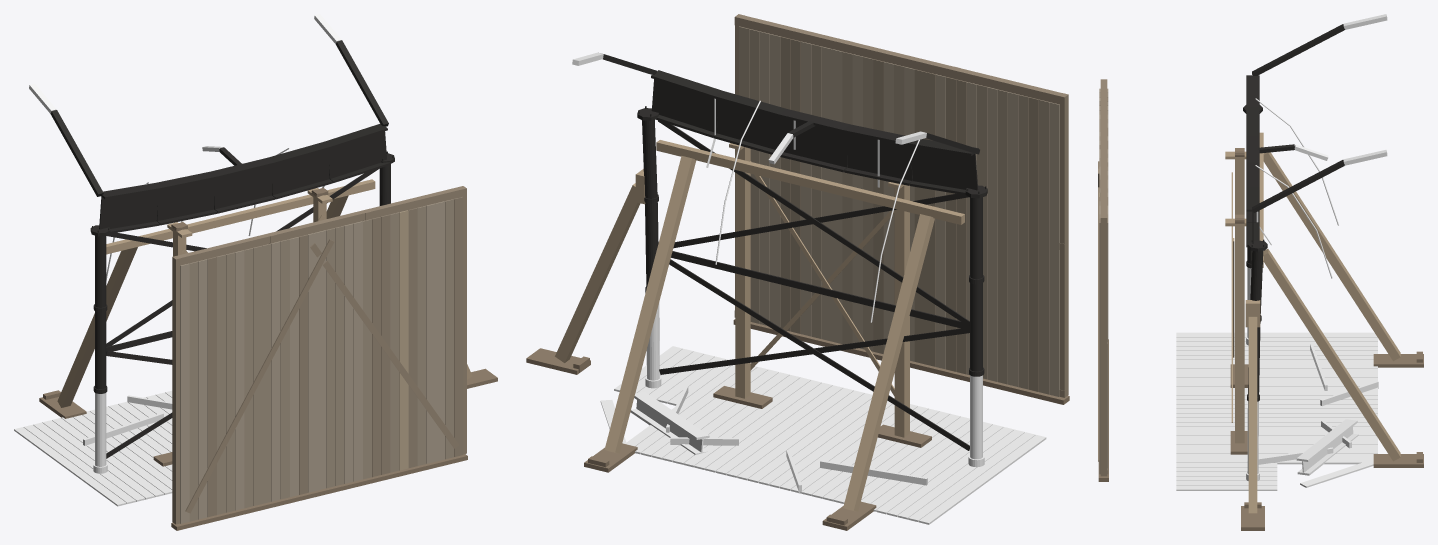
File: sy-post66-closure.glb
3 views of the same model, side by side, from view 1: azimuth 30°, elevation 25°; view 2: azimuth 150°, elevation 25°; view 3: azimuth 270°, elevation 25° (orthographic). The views are drawn at different scales.
Parts seen in each view (by area): view 1: Screen_Header, Screen_BoardNave_00, Screen_BoardNave_30, Screen_BoardNave_24, Screen_BoardNave_22, Screen_BoardNave_27, Screen_BoardNave_18, Screen_BoardNave_19, Screen_BoardNave_23, Screen_BoardNave_26, Screen_BoardNave_17, Screen_BoardNave_25 (+39 smaller); view 2: Shore_Rake_-2.7, Shore_Rake_2.7, Screen_Header, Shore_Waling, Shore_DeadPost_1.8, Screen_BoardBurn_03, Screen_BoardBurn_00, Screen_BoardBurn_01, Screen_BoardBurn_04, Screen_BoardBurn_05, Screen_BoardBurn_02, Screen_BoardBurn_06 (+74 smaller); view 3: Shore_Rake_2.7, Shore_Rake_-2.7, Shore_DeadPost_1.8, Shore_Rake_E, Screen_Post_3.6576, Screen_Header, Bay_Rafter_1_a, Bay_Rafter_-1_a, Bay_FallenTop, Bay_ColEast_Seg2, Shore_RakeSole_-2.7, Shore_RakeSole_2.7 (+53 smaller).
Boxes of the visible parts, x1,y1,x2,y2 form: Screen_Header: (172,186,466,264); Screen_BoardNave_00: (180,263,189,523); Screen_BoardNave_30: (454,197,463,456); Screen_BoardNave_24: (399,210,408,470); Screen_BoardNave_22: (381,214,390,474); Screen_BoardNave_27: (426,203,435,463); Screen_BoardNave_18: (344,223,353,483); Screen_BoardNave_19: (353,221,362,481); Screen_BoardNave_23: (390,212,399,472); Screen_BoardNave_26: (417,206,426,465); Screen_BoardNave_17: (335,226,344,485); Screen_BoardNave_25: (408,208,417,467); Shore_Rake_-2.7: (843,214,934,511); Shore_Rake_2.7: (604,156,696,453); Screen_Header: (734,14,1067,105); Shore_Waling: (656,140,964,224); Shore_DeadPost_1.8: (735,147,750,398); Screen_BoardBurn_03: (1018,94,1028,389); Screen_BoardBurn_00: (1049,102,1059,396); Screen_BoardBurn_01: (1039,99,1049,394); Screen_BoardBurn_04: (1008,92,1018,386); Screen_BoardBurn_05: (997,89,1007,384); Screen_BoardBurn_02: (1028,97,1038,391); Screen_BoardBurn_06: (987,87,997,381); Shore_Rake_2.7: (1263,249,1400,461); Shore_Rake_-2.7: (1263,152,1400,361); Shore_DeadPost_1.8: (1235,226,1244,443); Shore_Rake_E: (1248,316,1257,513); Screen_Post_3.6576: (1100,215,1106,476); Screen_Header: (1100,79,1107,224); Bay_Rafter_1_a: (1252,160,1344,212); Bay_Rafter_-1_a: (1252,24,1344,75); Bay_FallenTop: (1296,419,1357,461); Bay_ColEast_Seg2: (1250,251,1263,316); Shore_RakeSole_-2.7: (1373,354,1423,367); Shore_RakeSole_2.7: (1373,454,1423,467).
Bounding box in the file's own units: 10.6 × 8.29 × 7.43.
